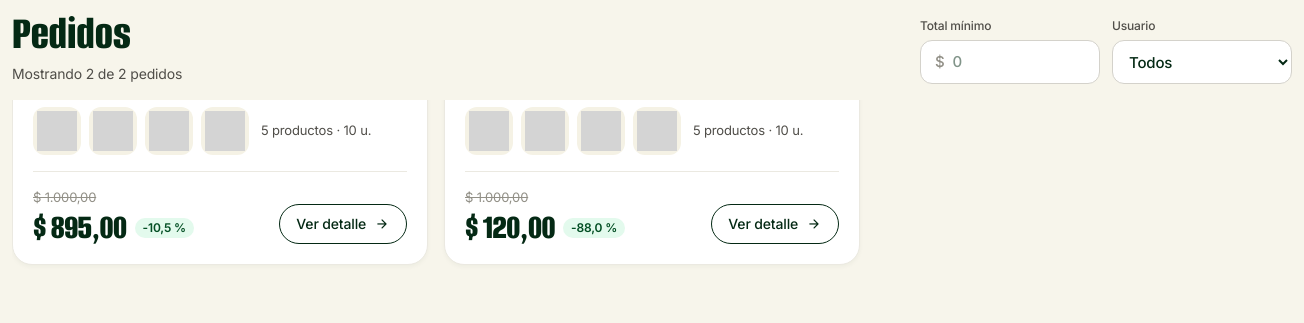
Test case: OrdersPageComponent › shows the empty filter state and clears it
Type "99999" into the number field labelled "Total mínimo $" at (1019, 62), box [952, 52, 1085, 72]
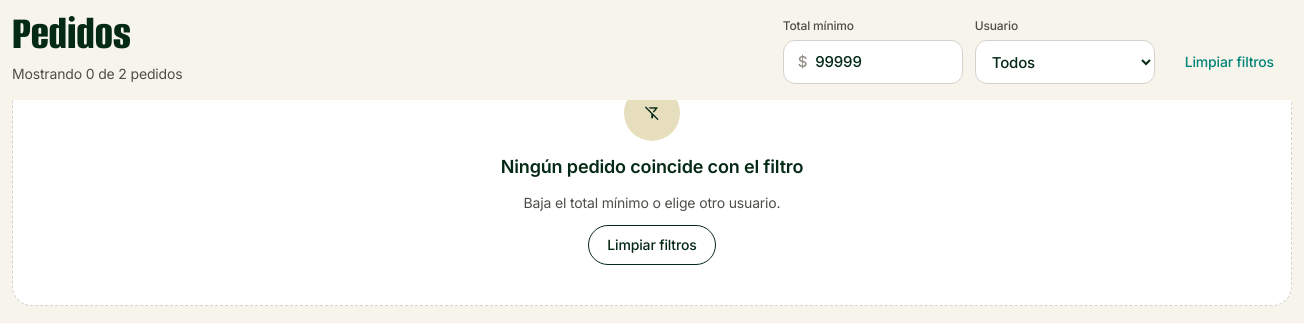
Check: the text "Ningún pedido coincide con el filtro" is shown, box [501, 153, 803, 181]
Click the button "Limpiar filtros" in the row of "Mostrando 0 de 2 pedidos" at (1229, 62), box [1167, 40, 1292, 84]
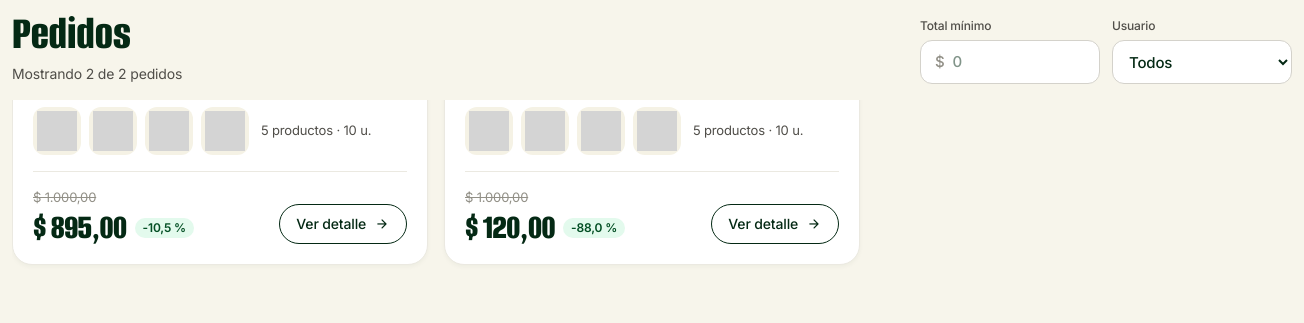
Check: the text "Mostrando 2 de 2 pedidos" is shown, box [12, 64, 182, 84]
